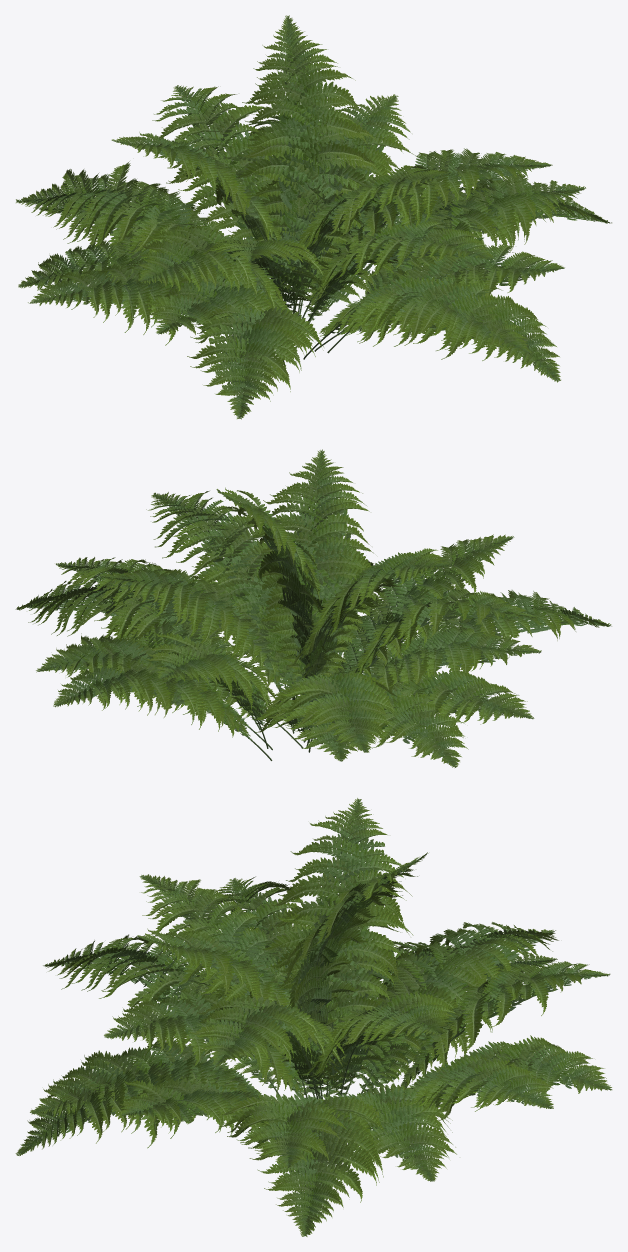
Rendered from fern_01_lod0.glb.
The picture shows the model from 3 angles, top to bottom: view 1: azimuth 30°, elevation 25°; view 2: azimuth 150°, elevation 25°; view 3: azimuth 270°, elevation 25°; orthographic projection. The views are drawn at different scales.
Parts seen in each view (by area): view 1: AE_15TH_FERN_01_LOD0; view 2: AE_15TH_FERN_01_LOD0; view 3: AE_15TH_FERN_01_LOD0.
Part boxes in pixels (left/top/right/bottom): AE_15TH_FERN_01_LOD0: left=16, top=15, right=611, bottom=419; AE_15TH_FERN_01_LOD0: left=15, top=449, right=611, bottom=767; AE_15TH_FERN_01_LOD0: left=15, top=798, right=612, bottom=1236.
Size of the model in its own units: 0.7412 by 0.3715 by 0.6417.
4 materials, 4 textured.
